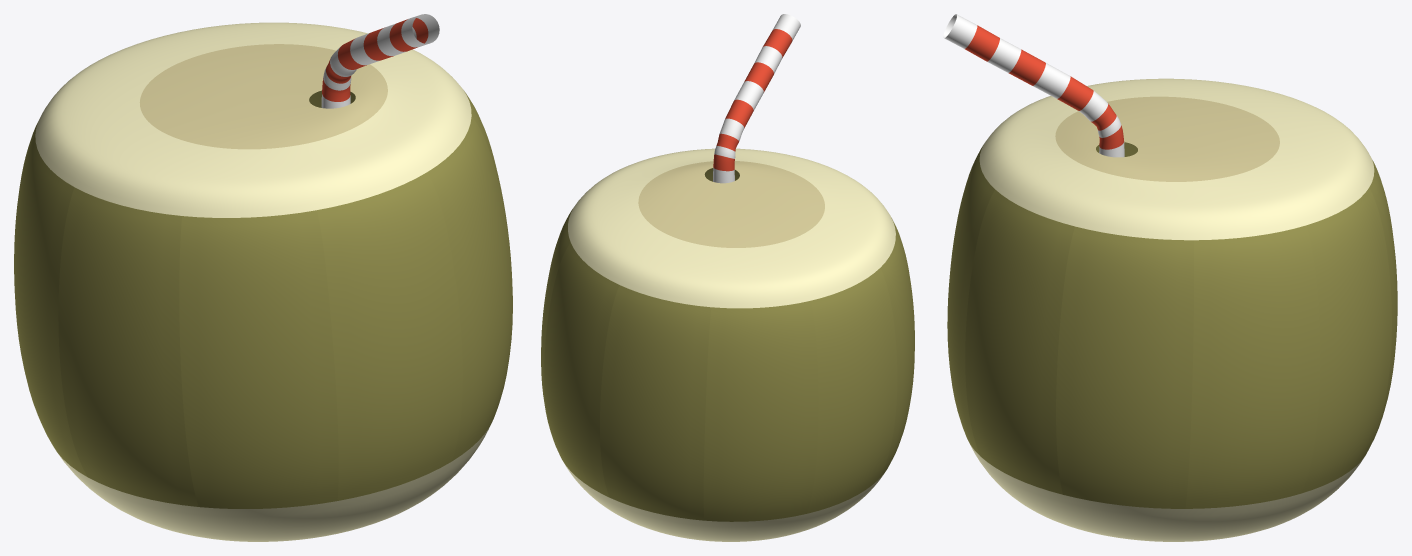
The model's file is coco.glb.
The picture shows the model from 3 angles, left to right: view 1: azimuth 30°, elevation 25°; view 2: azimuth 150°, elevation 25°; view 3: azimuth 270°, elevation 25°; orthographic projection. The views are drawn at different scales.
Parts seen in each view (by area): view 1: Coco, Cylinder; view 2: Coco, Cylinder; view 3: Coco, Cylinder.
Boxes of the visible parts, x1,y1,x2,y2 form: Coco: [14, 22, 512, 541]; Cylinder: [321, 14, 439, 108]; Coco: [541, 148, 914, 541]; Cylinder: [713, 14, 800, 183]; Coco: [947, 78, 1397, 541]; Cylinder: [943, 14, 1124, 157].
Size of the model in its own units: 2.33 by 2.98 by 2.35.
